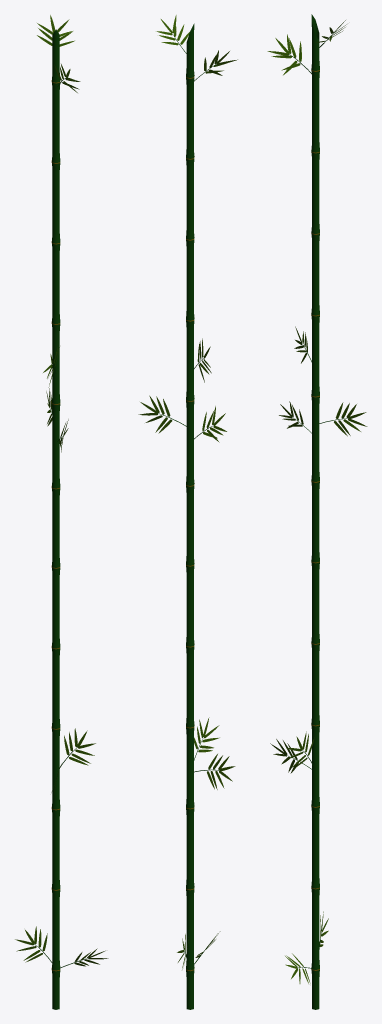
Rendered from BambooBv1.fbx.
The picture shows the model from 3 angles, left to right: view 1: azimuth 90°, elevation 25°; view 2: azimuth 150°, elevation 25°; view 3: azimuth 330°, elevation 25°; orthographic projection.
Visible parts, largest first — view 1: BambooB; view 2: BambooB; view 3: BambooB.
Part boxes in pixels (x1,y1,x2,y2): BambooB: (15, 15, 108, 1009); BambooB: (138, 15, 237, 1009); BambooB: (267, 14, 367, 1009).
Bounding box in the file's own units: 119 × 1213 × 107.
